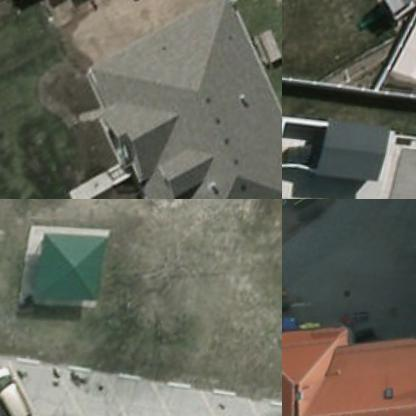car: (0, 355, 45, 415)
